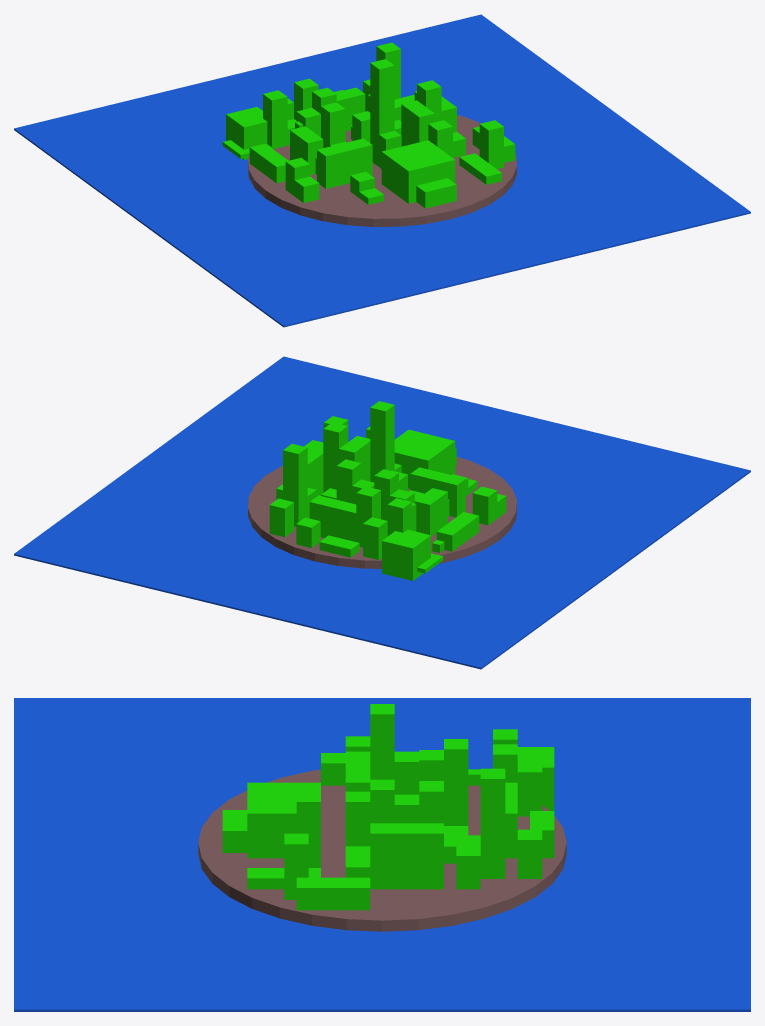
File: testCity.glb
The picture shows the model from 3 angles, top to bottom: view 1: azimuth 30°, elevation 25°; view 2: azimuth 150°, elevation 25°; view 3: azimuth 270°, elevation 25°; orthographic projection. The views are drawn at different scales.
Visible parts, largest first — view 1: Water, Island, Building4, Building3, Building5, Building14, Building7, Building23, Building38, Building29, Building11, Building13 (+9 smaller); view 2: Water, Island, Building3, Building4, Building5, Building21, Building24, Building14, Building29, Building12, Building38, Building17 (+9 smaller); view 3: Water, Island, Building10, Building4, Building24, Building22, Building18, Building5, Building14, Building3, Building8, Building7 (+16 smaller).
Part boxes in pixels (x1=…): Water: x1=14, y1=14, x2=750, y2=327; Island: x1=248, y1=115, x2=516, y2=226; Building4: x1=381, y1=140, x2=455, y2=203; Building3: x1=226, y1=90, x2=287, y2=159; Building5: x1=370, y1=59, x2=401, y2=168; Building14: x1=317, y1=138, x2=372, y2=188; Building7: x1=401, y1=100, x2=434, y2=146; Building23: x1=479, y1=120, x2=503, y2=168; Building38: x1=249, y1=143, x2=288, y2=183; Building29: x1=290, y1=126, x2=323, y2=174; Building11: x1=321, y1=102, x2=345, y2=147; Building13: x1=416, y1=178, x2=456, y2=208; Water: x1=14, y1=356, x2=750, y2=669; Island: x1=248, y1=457, x2=516, y2=568; Building3: x1=382, y1=498, x2=430, y2=580; Building4: x1=394, y1=429, x2=455, y2=488; Building5: x1=370, y1=401, x2=401, y2=482; Building21: x1=309, y1=495, x2=356, y2=541; Building24: x1=283, y1=444, x2=307, y2=526; Building14: x1=409, y1=467, x2=465, y2=517; Building29: x1=414, y1=488, x2=447, y2=536; Building12: x1=323, y1=422, x2=347, y2=492; Building38: x1=436, y1=512, x2=479, y2=551; Building17: x1=356, y1=486, x2=380, y2=547; Water: x1=14, y1=698, x2=750, y2=1011; Island: x1=198, y1=769, x2=566, y2=931; Building10: x1=370, y1=823, x2=443, y2=889; Building4: x1=247, y1=782, x2=320, y2=858; Building24: x1=480, y1=768, x2=505, y2=878; Building22: x1=296, y1=877, x2=370, y2=910; Building18: x1=444, y1=739, x2=468, y2=825; Building5: x1=370, y1=704, x2=394, y2=779; Building14: x1=345, y1=751, x2=419, y2=823; Building3: x1=493, y1=729, x2=554, y2=810; Building8: x1=296, y1=791, x2=320, y2=867; Building7: x1=345, y1=791, x2=370, y2=846.
Size of the model in its own units: 246 by 54.12 by 246.
